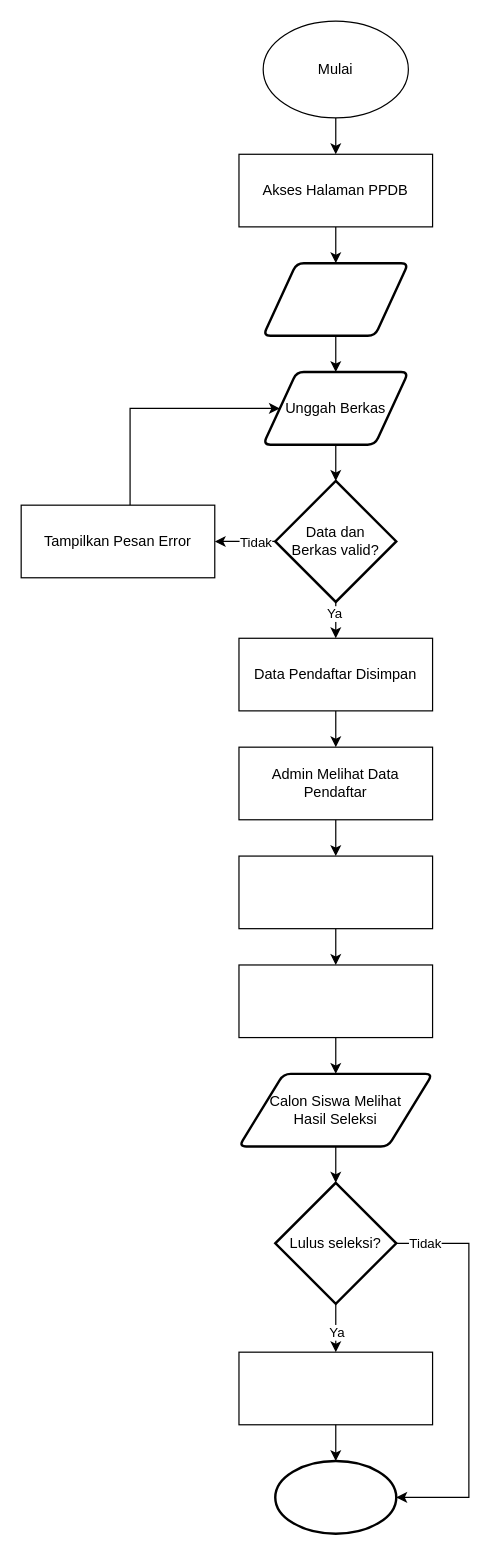
This 500x1556 diagram has some shape labels left out. Here are the shapes that lost their labels. From the top down, the centre of each, then its label:
pixel 335 298: Isi Form PPDB
pixel 335 892: Proses Perhitungan Metode SAW
pixel 335 1001: Admin Melakukan Seleksi
pixel 335 1388: Proses Daftar Ulang
pixel 335 1496: Selesai
